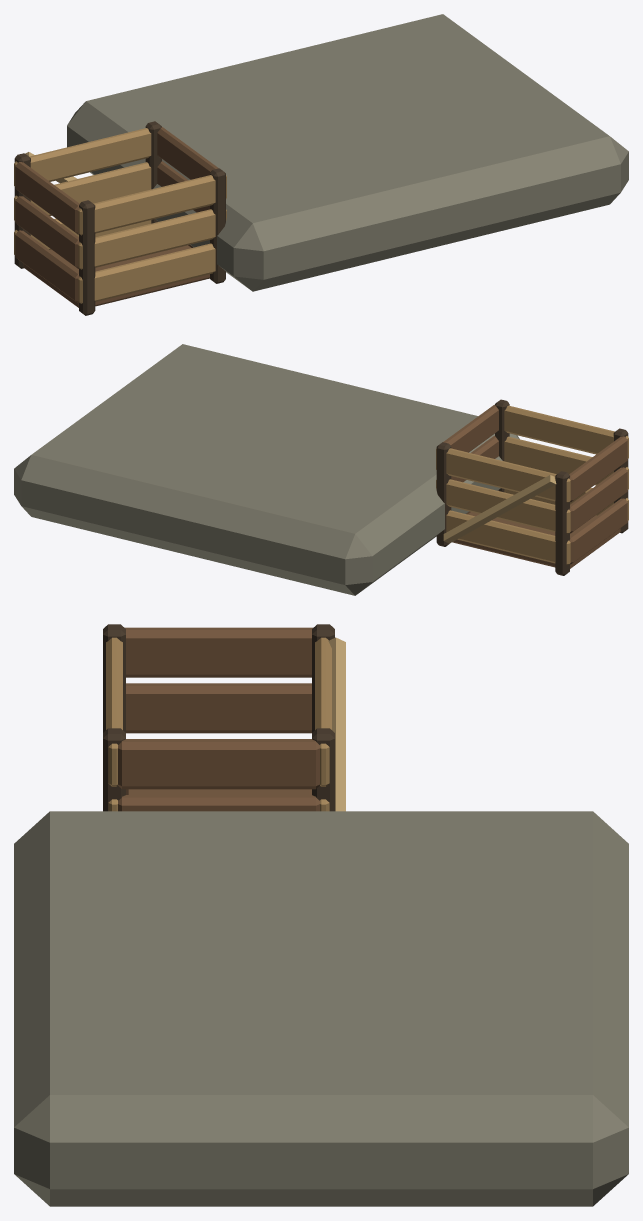
File: Camp_Forge_L0.fbx
3 renders of one model, top to bottom at view 1: azimuth 30°, elevation 25°; view 2: azimuth 150°, elevation 25°; view 3: azimuth 270°, elevation 25°, orthographic. The views are drawn at different scales.
Parts seen in each view (by area): view 1: Camp_Forge_L0_Export; view 2: Camp_Forge_L0_Export; view 3: Camp_Forge_L0_Export.
Boxes of the visible parts, box(x1,y1,x2,y2) form: Camp_Forge_L0_Export: box(14, 14, 628, 315); Camp_Forge_L0_Export: box(14, 344, 628, 595); Camp_Forge_L0_Export: box(14, 624, 628, 1206).
Size of the model in its own units: 1.95 by 0.39 by 1.2.
